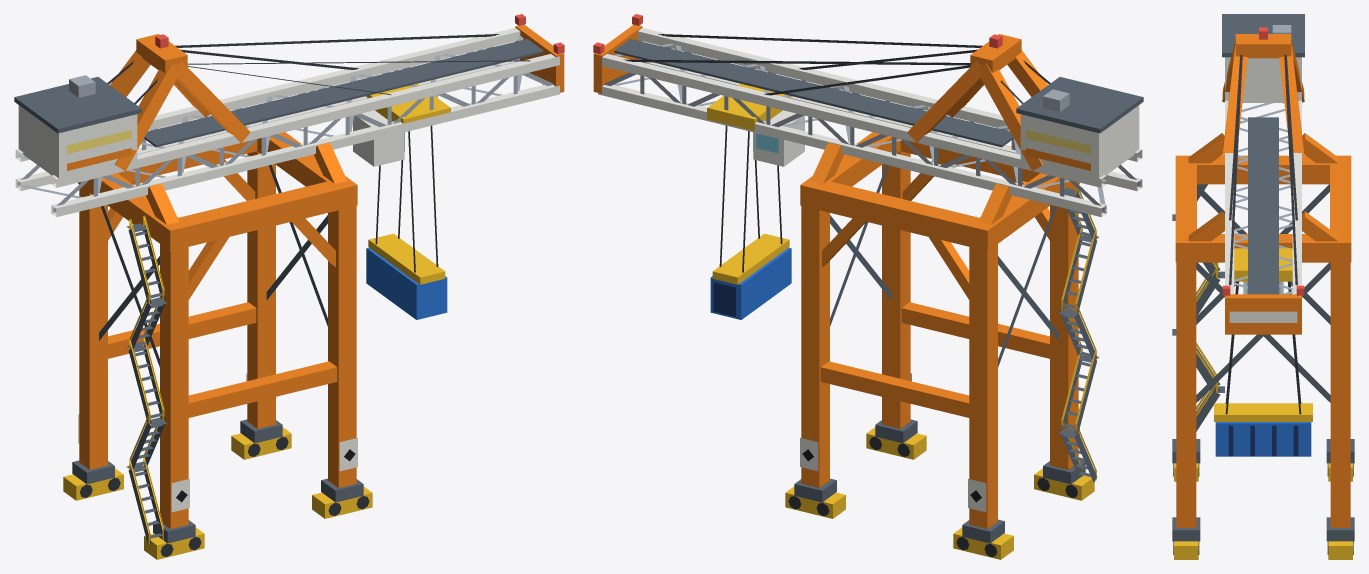
File: crane_port.glb
The picture shows the model from 3 angles, left to right: view 1: azimuth 30°, elevation 25°; view 2: azimuth 150°, elevation 25°; view 3: azimuth 270°, elevation 25°; orthographic projection. The views are drawn at different scales.
Parts seen in each view (by area): view 1: Body; view 2: Body; view 3: Body.
Part boxes in pixels (x1,y1,x2,y2): Body: (14, 14, 564, 559); Body: (593, 14, 1143, 559); Body: (1172, 14, 1354, 559).
Size of the model in its own units: 3.66 by 3.25 by 1.18.
